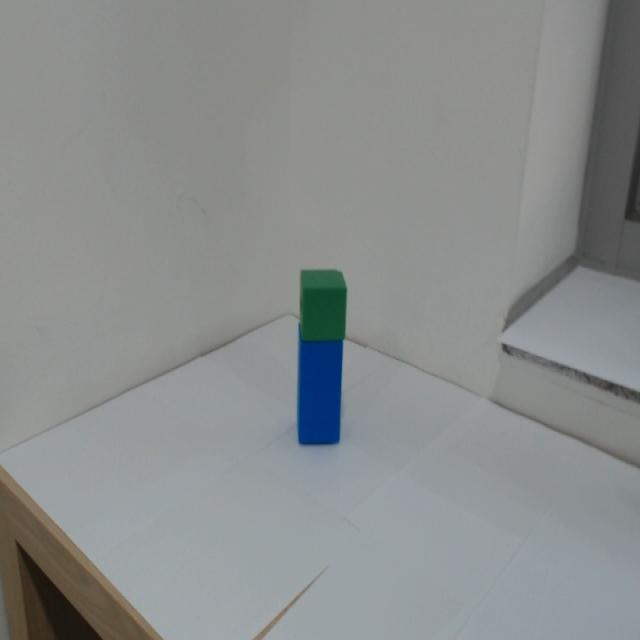cube: (293, 263, 356, 345)
